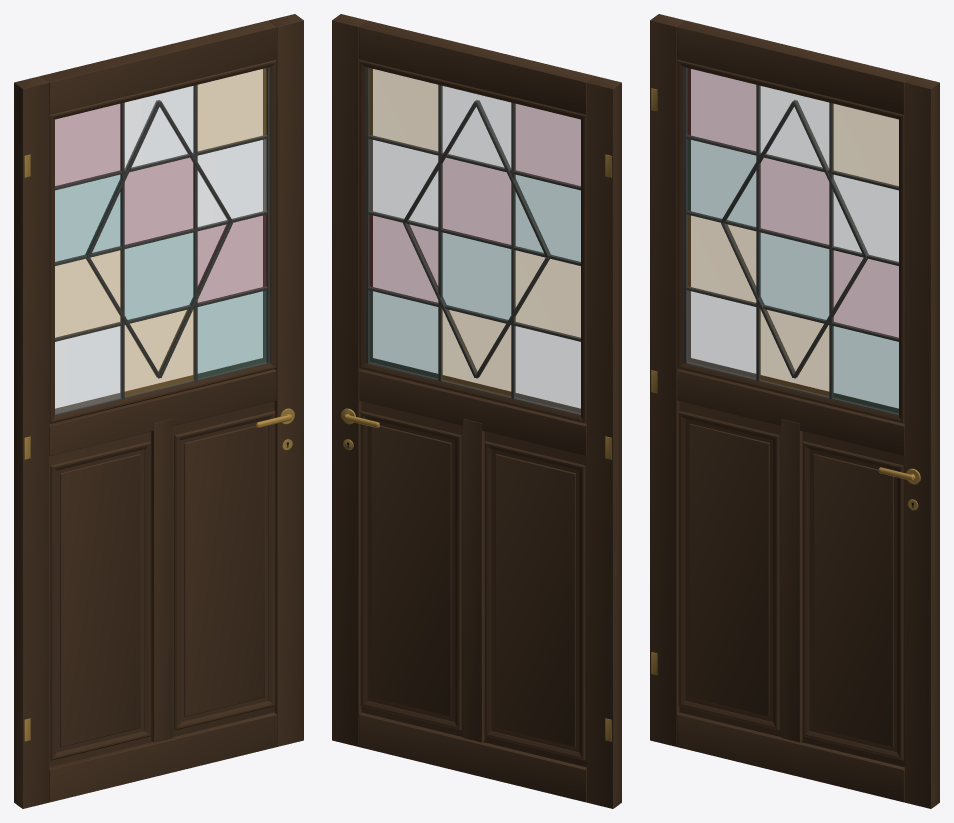
Rendered from rpg-mansion-entrance-door-glazed-01.glb.
3 views of the same model, side by side, from view 1: azimuth 30°, elevation 25°; view 2: azimuth 150°, elevation 25°; view 3: azimuth 330°, elevation 25° (orthographic).
Parts seen in each view (by area): view 1: rpg-mansion-entrance-door-glazed-01; view 2: rpg-mansion-entrance-door-glazed-01; view 3: rpg-mansion-entrance-door-glazed-01.
Part boxes in pixels (x1,y1,x2,y2): rpg-mansion-entrance-door-glazed-01: [14, 14, 303, 808]; rpg-mansion-entrance-door-glazed-01: [332, 14, 621, 808]; rpg-mansion-entrance-door-glazed-01: [650, 14, 939, 808].
Bounding box in the file's own units: 0.94 × 2.3 × 0.09.
